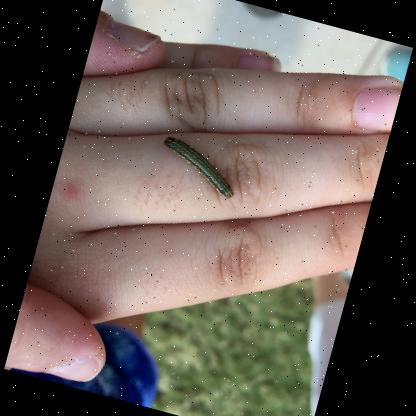Fall Armyworm Larvae: (151, 131, 246, 202)
